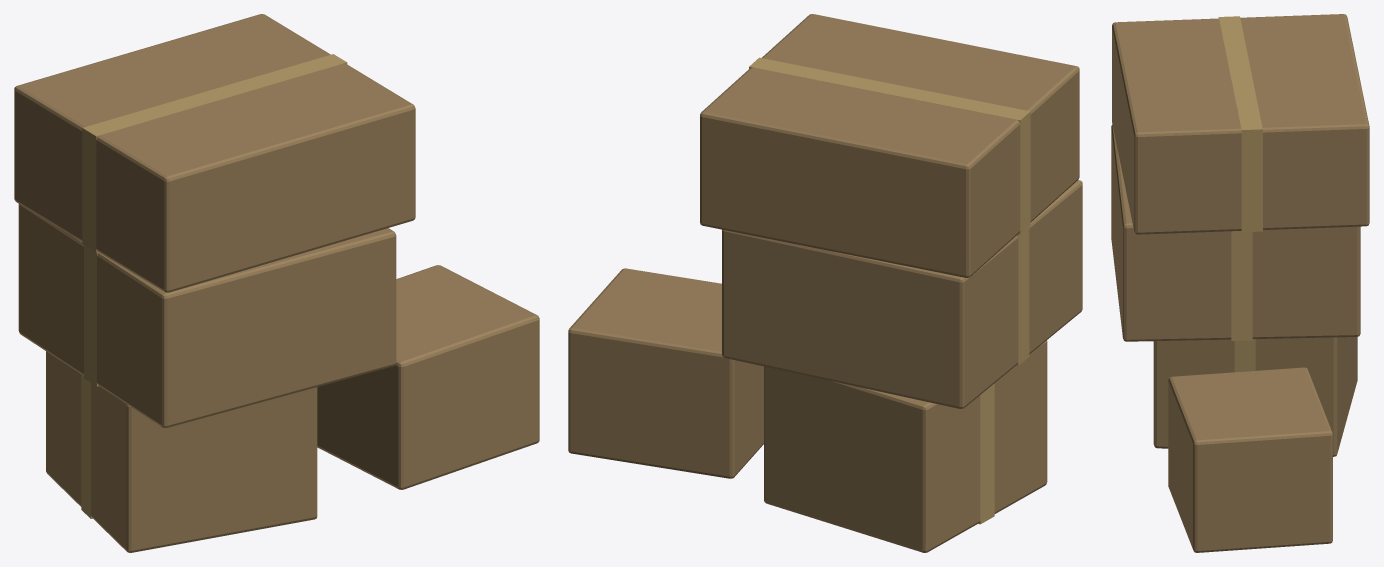
The model's file is box_stack.glb.
3 renders of one model, left to right at view 1: azimuth 30°, elevation 25°; view 2: azimuth 150°, elevation 25°; view 3: azimuth 270°, elevation 25°, orthographic. The views are drawn at different scales.
Visible parts, largest first — view 1: box_stack; view 2: box_stack; view 3: box_stack.
Boxes of the visible parts, bbox=[...] form: box_stack: bbox=[14, 14, 539, 552]; box_stack: bbox=[568, 14, 1082, 552]; box_stack: bbox=[1111, 14, 1369, 552].
Size of the model in its own units: 1.26 by 1.1 by 0.7287.
